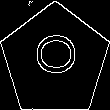O_W: (31, 39, 79, 82)
